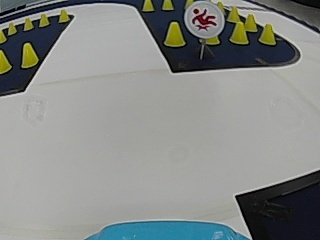cone: (164, 21, 185, 47), (21, 42, 37, 68), (230, 22, 248, 44), (259, 23, 276, 45), (0, 50, 11, 74), (244, 13, 256, 31), (227, 5, 239, 22), (141, 0, 154, 12), (39, 13, 50, 27), (58, 8, 69, 22), (23, 17, 33, 31), (7, 21, 16, 36), (162, 0, 173, 11), (0, 29, 6, 44)
tumble: (188, 4, 222, 34)
